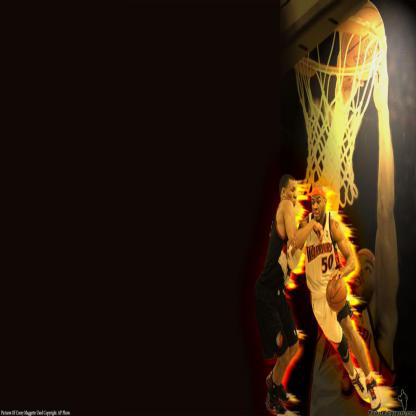face: (351, 248, 375, 298), (312, 196, 325, 222), (288, 182, 298, 210)
